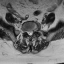CCS_normal: (29, 28, 31, 37)
LFS_stenosis: (33, 27, 35, 33)
LLS_normal: (31, 29, 33, 36)
RFS_stenosis: (25, 28, 27, 34)
RLS_normal: (27, 28, 29, 36)
